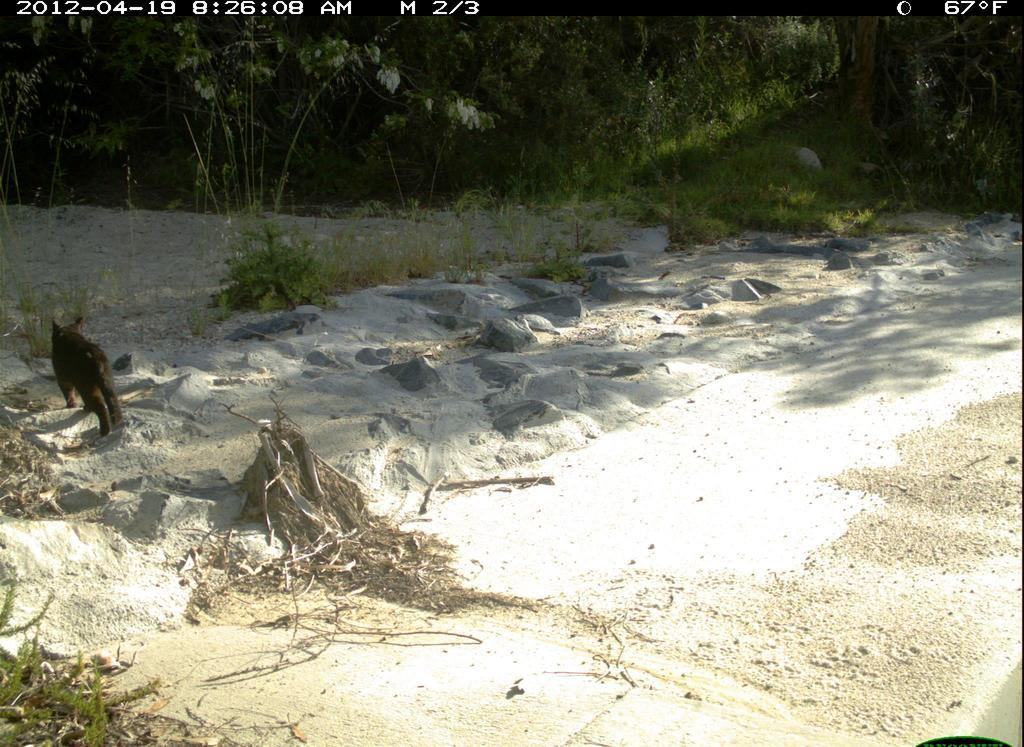cat: (47, 315, 136, 446)
